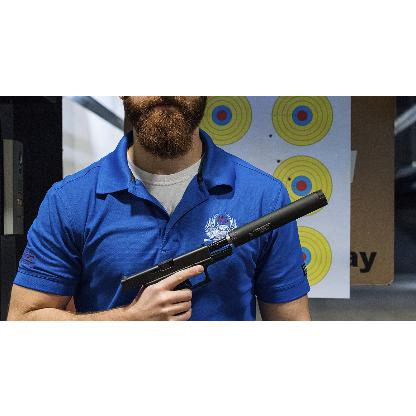gun: (116, 187, 328, 307)
